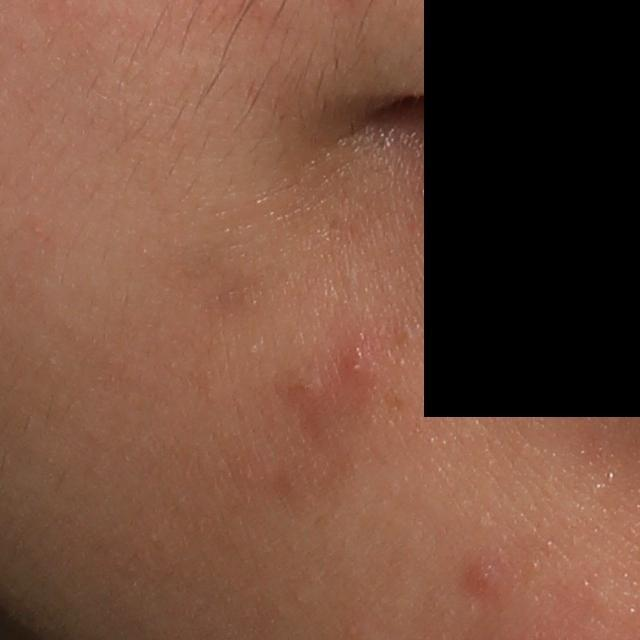papule: (464, 563, 498, 602), (339, 337, 372, 377)
